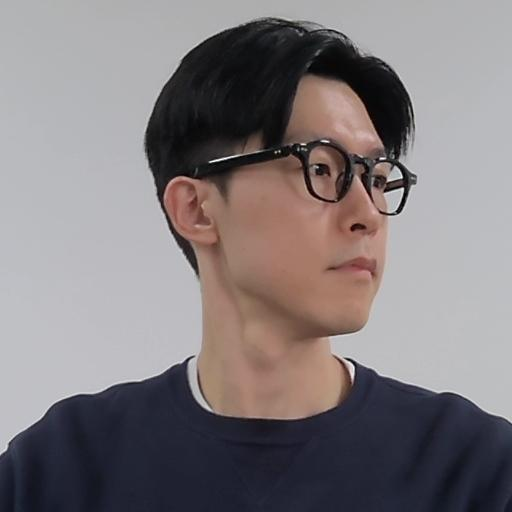no_glasses: (145, 11, 425, 347)
